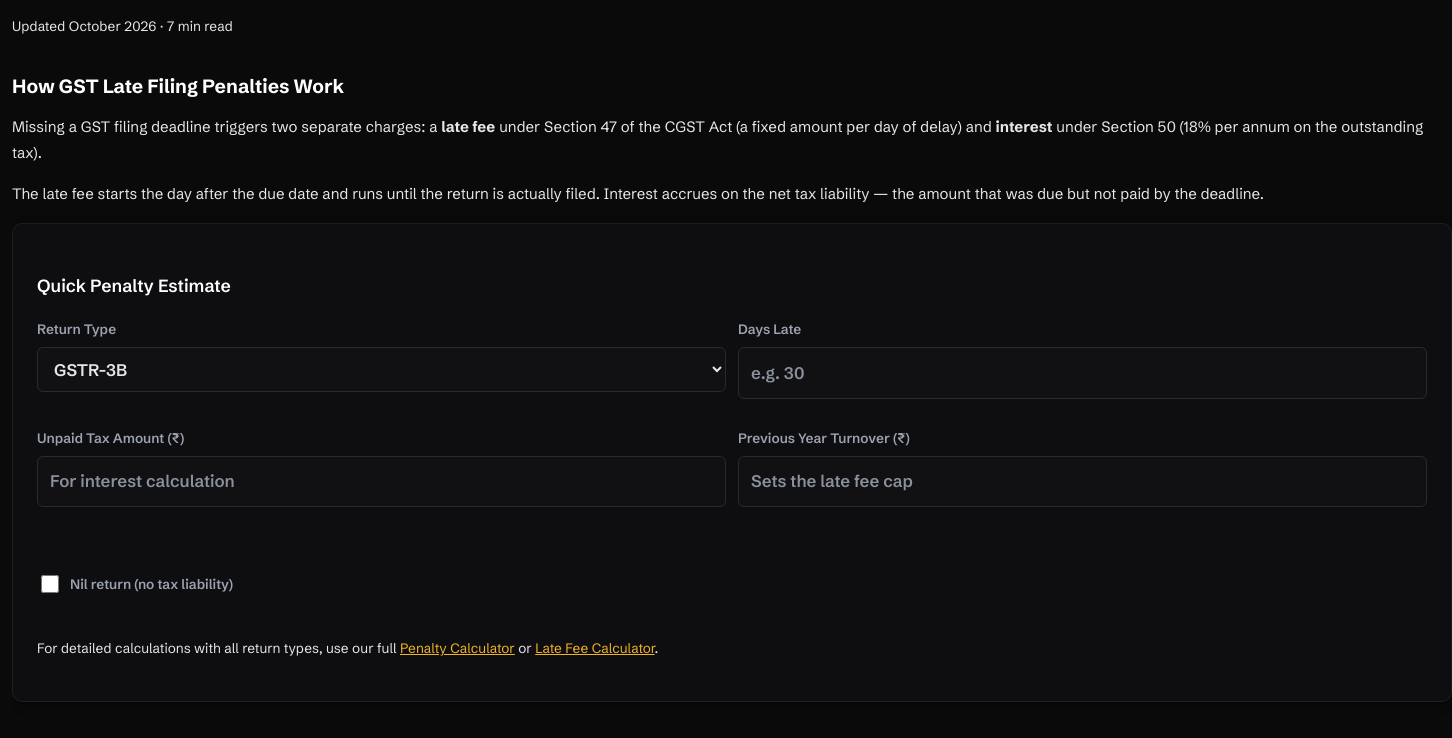
it: GstLatePenaltyCalculator › charges no interest on a nil return
Type "100000" into the number field labelled "Unpaid Tax Amount (₹)". click: (382, 482)
box: [37,456,726,507]
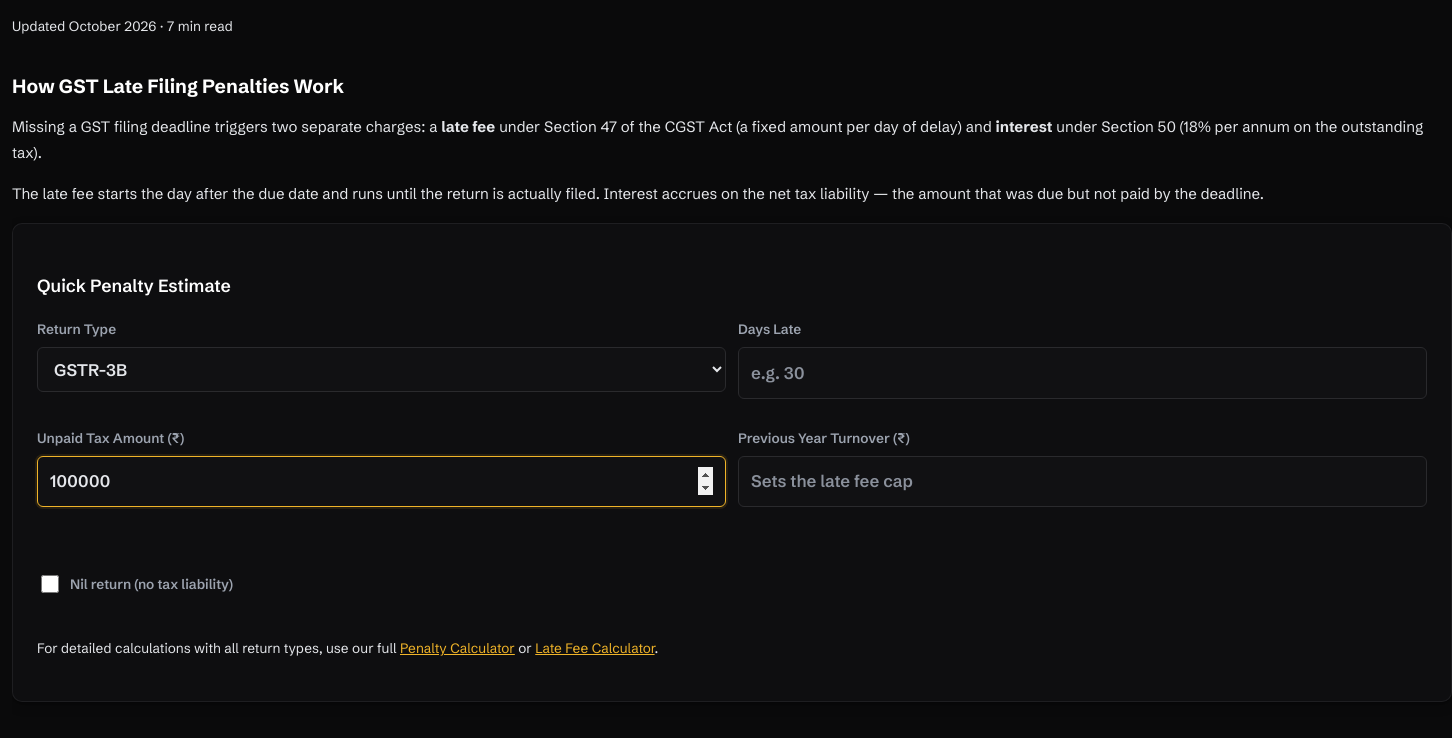
Click the checkbox labelled "Nil return (no tax liability)". click: (50, 584)
box: [41,562,59,606]
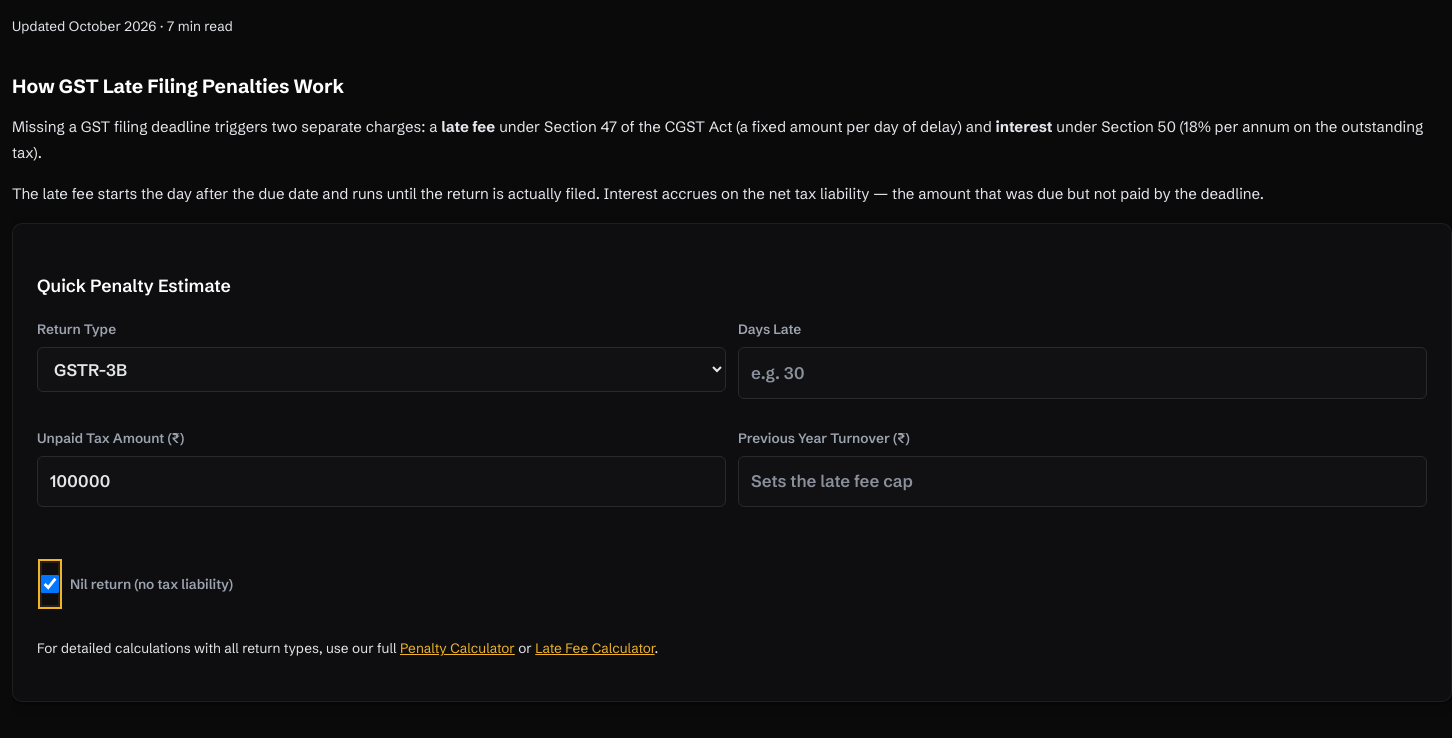
Type "10" into the number field labelled "Days Late". click: (1082, 373)
box: [738,347,1427,399]
(page scrolled)
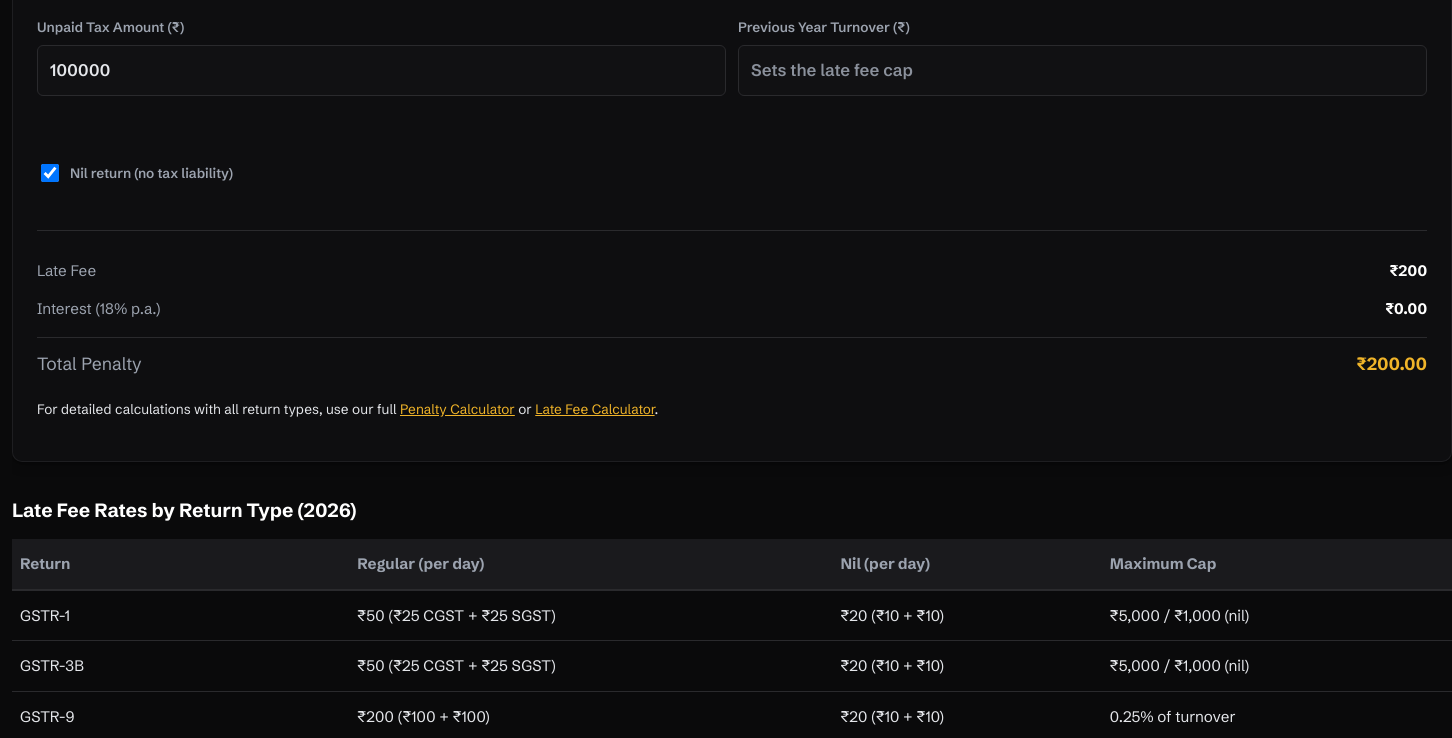
Now the text "₹200.00" is shown, box [1357,350,1427,380]
